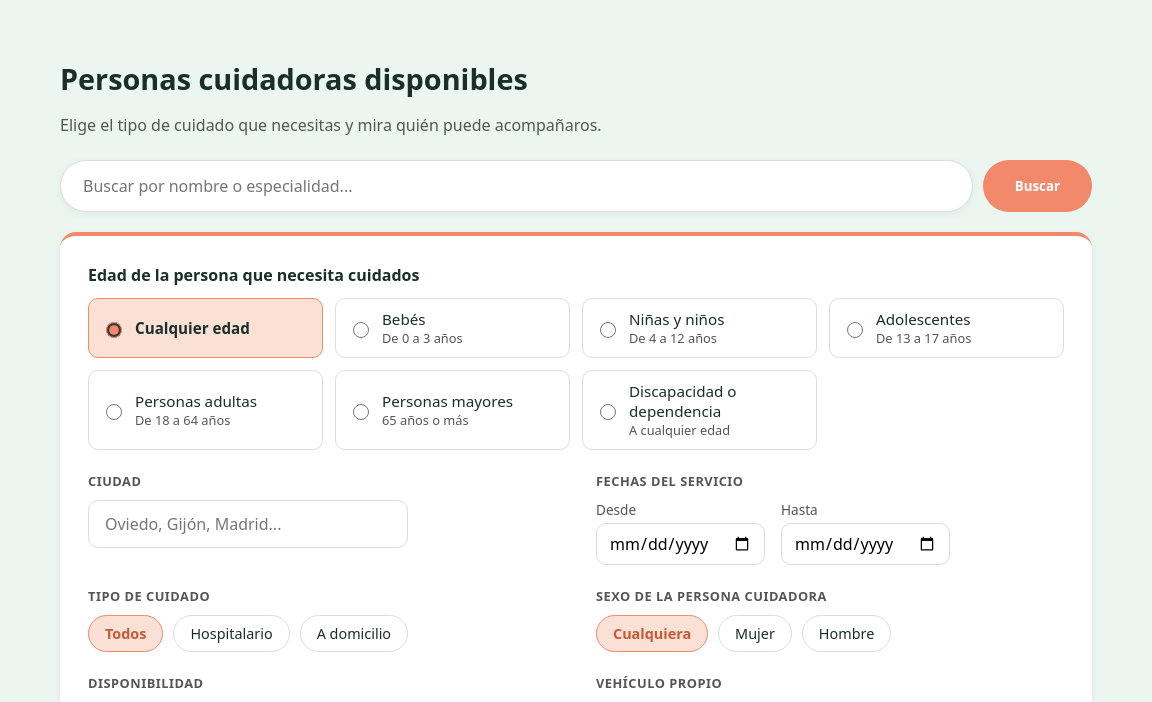
Scenario: BuscarView › si la fecha de fin es anterior a la de inicio avisa y no consulta
In the date field with id "filtro-fecha-hasta": [866, 544] box [781,523,950,565], type "2026-11-01"
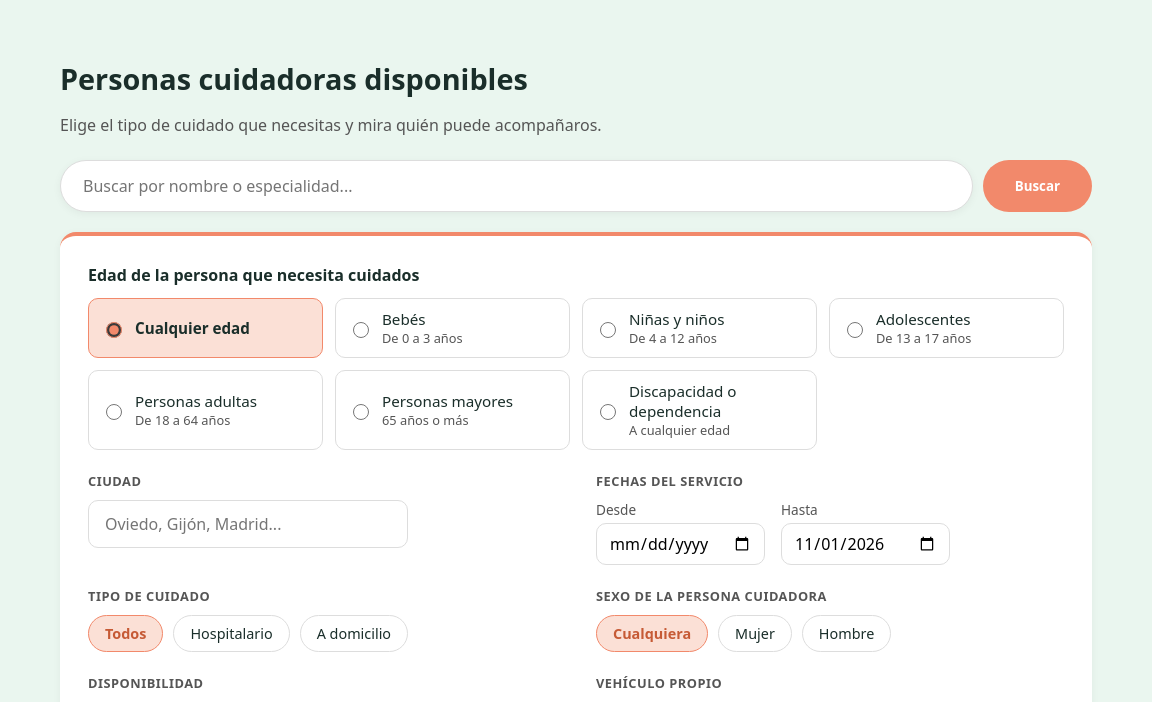
In the date field with id "filtro-fecha-desde": [680, 544] box [596,523,765,565], type "2026-11-05"
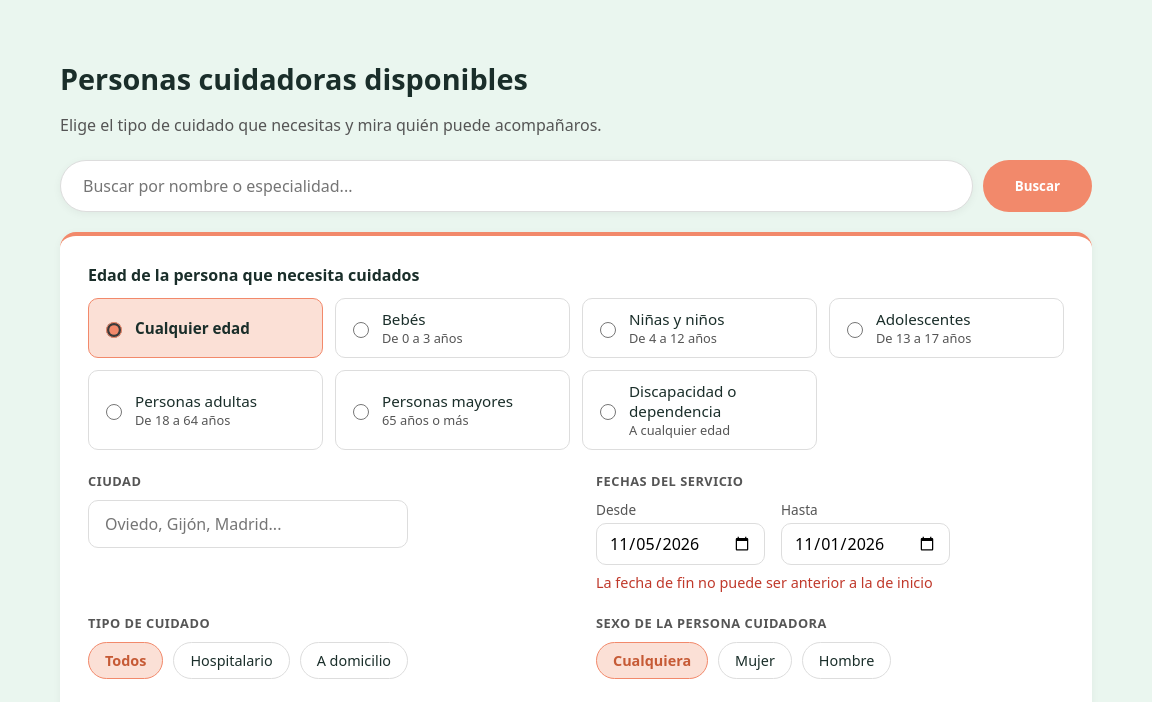
Now the text "La fecha de fin no puede ser anterior a la de inicio" is shown, box [596,573,933,592]
